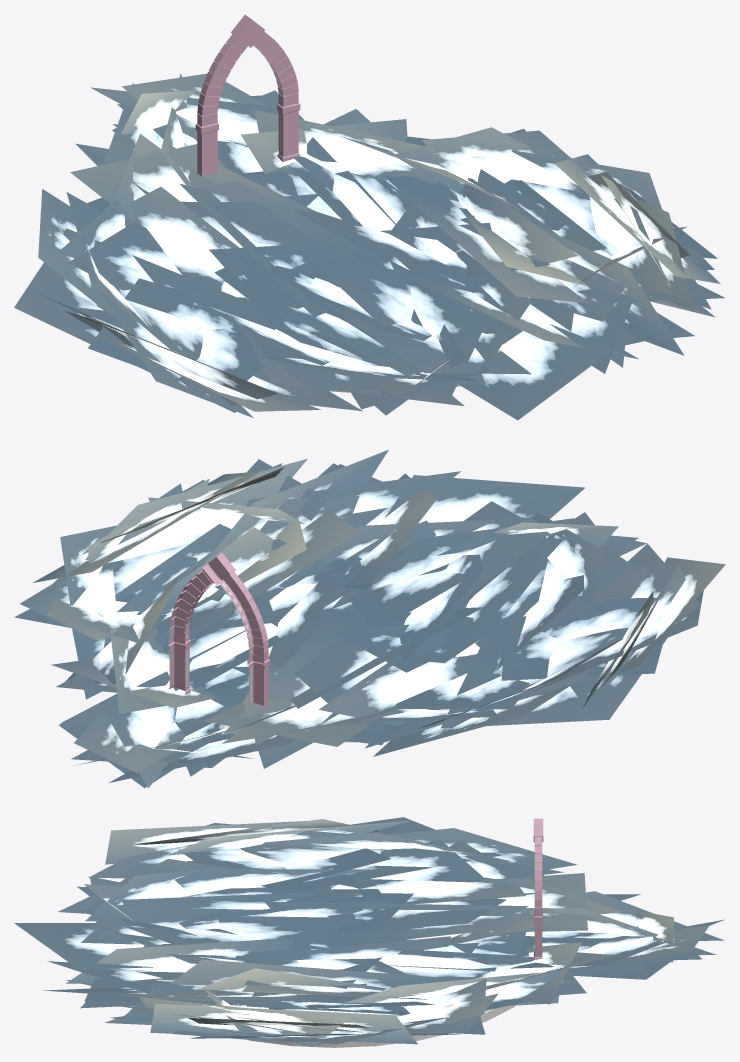
The model's file is KYSS Castle Spawn.fbx.
The picture shows the model from 3 angles, top to bottom: view 1: azimuth 30°, elevation 25°; view 2: azimuth 150°, elevation 25°; view 3: azimuth 270°, elevation 25°; orthographic projection. The views are drawn at different scales.
Parts seen in each view (by area): view 1: Cloud Floor, Hallway Wall Arches.002; view 2: Cloud Floor, Hallway Wall Arches.002; view 3: Cloud Floor, Hallway Wall Arches.002, Cylinder.
Boxes of the visible parts, x1,y1,x2,y2 form: Cloud Floor: (14,73,724,420); Hallway Wall Arches.002: (195,14,300,176); Cloud Floor: (14,449,725,788); Hallway Wall Arches.002: (168,553,270,710); Cloud Floor: (14,817,724,1047); Hallway Wall Arches.002: (533,818,543,959); Cylinder: (247,1005,515,1047).
Bounding box in the file's own units: 2190 × 600 × 2774.
